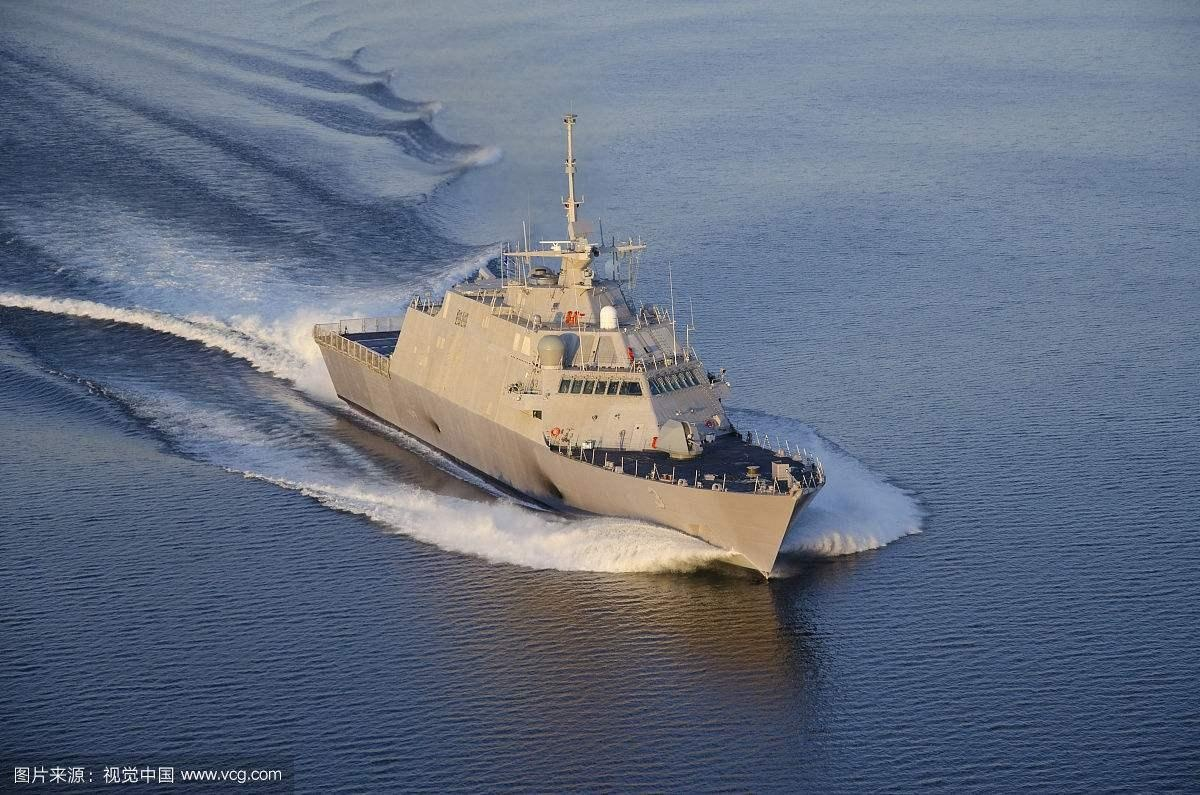warship: (309, 94, 834, 586)
